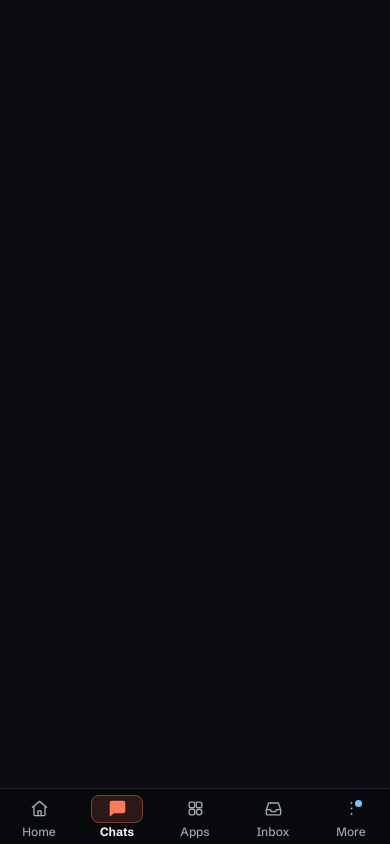
Test case: Rail on a phone › shows the running count in the More sheet, and marks More
Click the button with aria-label "More (new)" at (351, 816), box [312, 789, 389, 843]
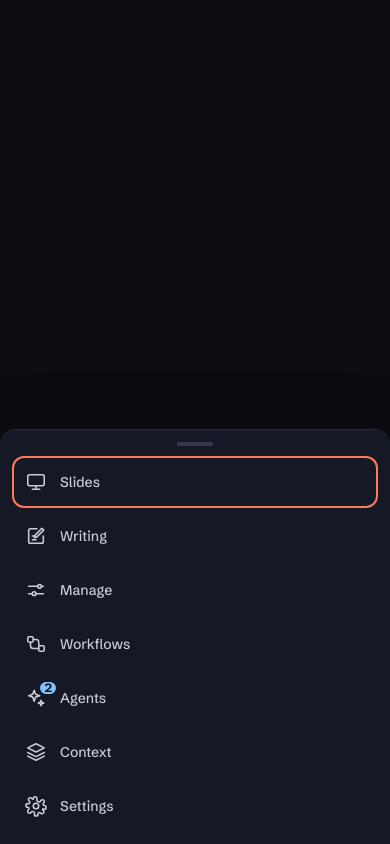
Now the text with class "rail-count" reads "2", box [44, 680, 52, 695]
